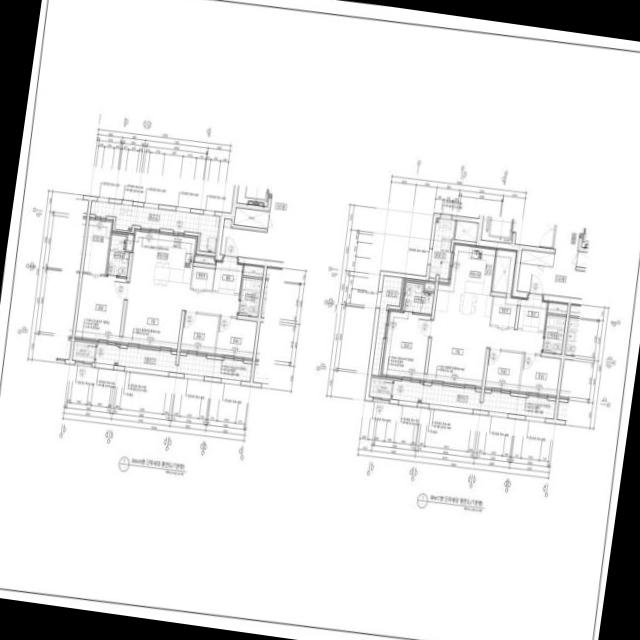background: (0, 0, 640, 640)
space_balconi: (90, 200, 220, 252), (392, 380, 556, 419), (95, 343, 251, 381), (371, 275, 402, 375), (429, 218, 455, 279)
space_bedroom: (380, 308, 430, 381), (74, 273, 126, 343), (519, 354, 561, 397), (215, 317, 257, 360), (484, 350, 522, 393), (180, 313, 218, 355)
space_dressroom: (83, 217, 113, 274)
space_elevator: (481, 215, 514, 243), (236, 185, 269, 206), (581, 228, 590, 247)
space_elevator_hall: (514, 219, 585, 298), (220, 188, 292, 262)
space_front: (517, 294, 547, 331)
space_kitchen: (434, 243, 496, 326), (129, 228, 198, 289), (213, 257, 243, 295)
space_living_room: (426, 319, 543, 388), (122, 282, 239, 351)
space_other: (492, 248, 517, 293), (490, 296, 518, 327), (234, 207, 269, 228), (520, 249, 554, 266), (191, 266, 214, 290), (454, 220, 478, 242), (369, 377, 392, 399), (72, 341, 96, 362), (547, 301, 568, 315), (243, 264, 264, 277), (194, 254, 215, 264), (576, 251, 587, 267), (126, 232, 134, 250), (424, 280, 435, 291), (223, 219, 231, 227)
space_toilet: (402, 282, 433, 314), (106, 234, 129, 276), (542, 314, 566, 354), (238, 277, 262, 316)
